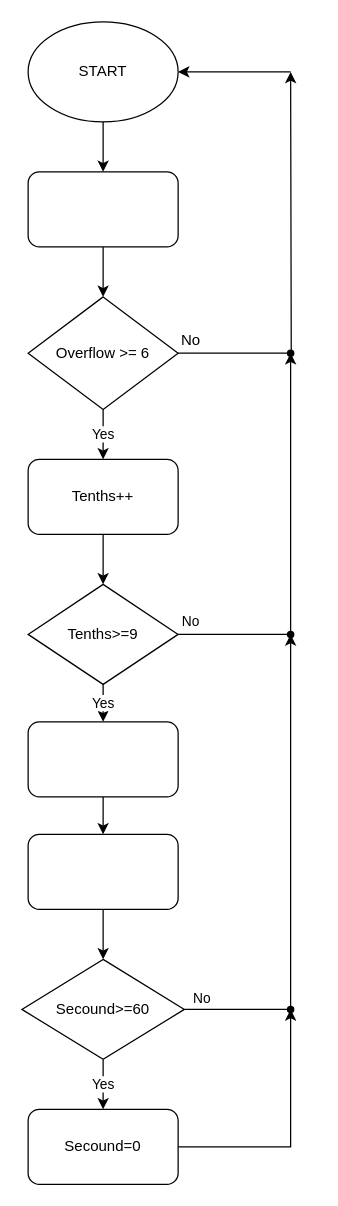
Some shapes in this 338 by 1206 pixel diagram are drawn without their labels. The box of each missing label's shape, as (x1, y1, x2, y2) in pixels:
Incrase Overflow: (27, 171, 178, 247)
Secound++: (27, 833, 178, 909)
Tenths = 0: (27, 721, 178, 797)
